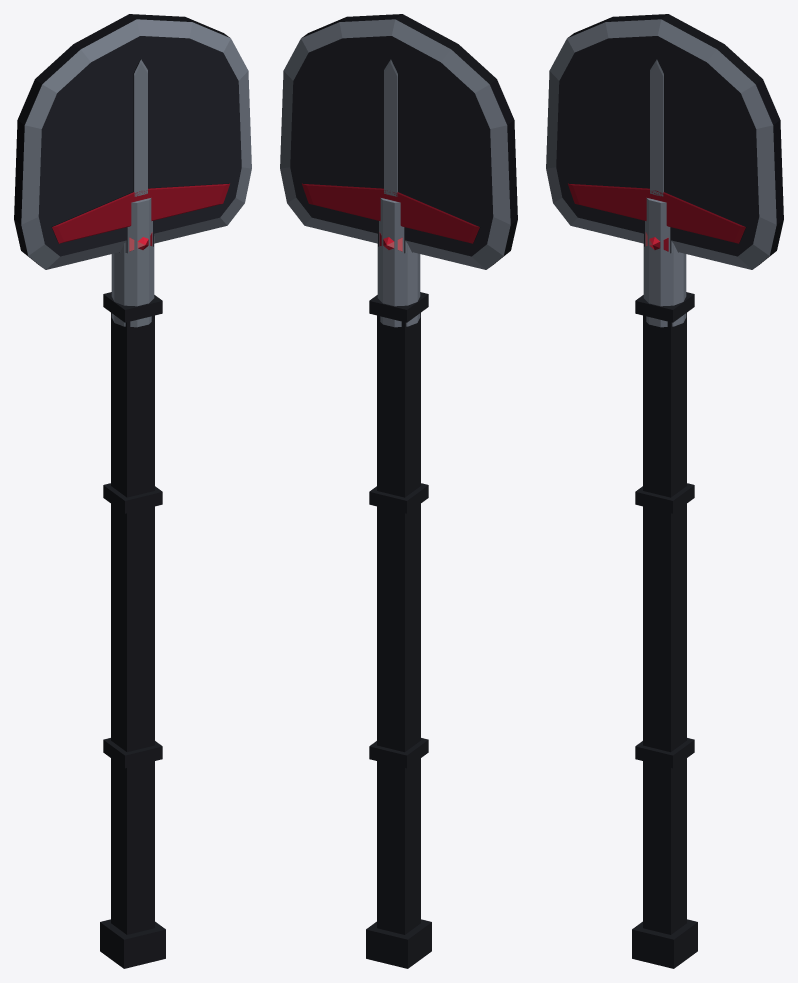
The model's file is endgame_shovel_smooth.obj.
3 views of the same model, side by side, from view 1: azimuth 30°, elevation 25°; view 2: azimuth 150°, elevation 25°; view 3: azimuth 330°, elevation 25° (orthographic).
Visible parts, largest first — view 1: endgame_shovel; view 2: endgame_shovel; view 3: endgame_shovel.
Part boxes in pixels (x1,y1,x2,y2): endgame_shovel: (14, 14, 251, 968); endgame_shovel: (280, 14, 517, 968); endgame_shovel: (546, 14, 783, 968).
Bounding box in the file's own units: 0.4125 × 1.6 × 0.0762.
